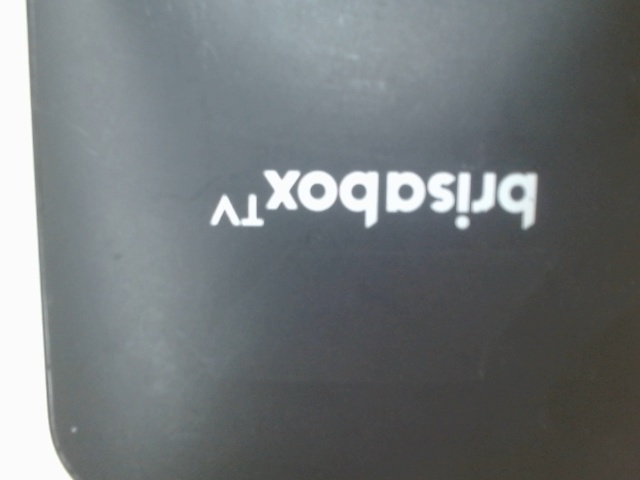AH_brisabox: (196, 145, 546, 242)
